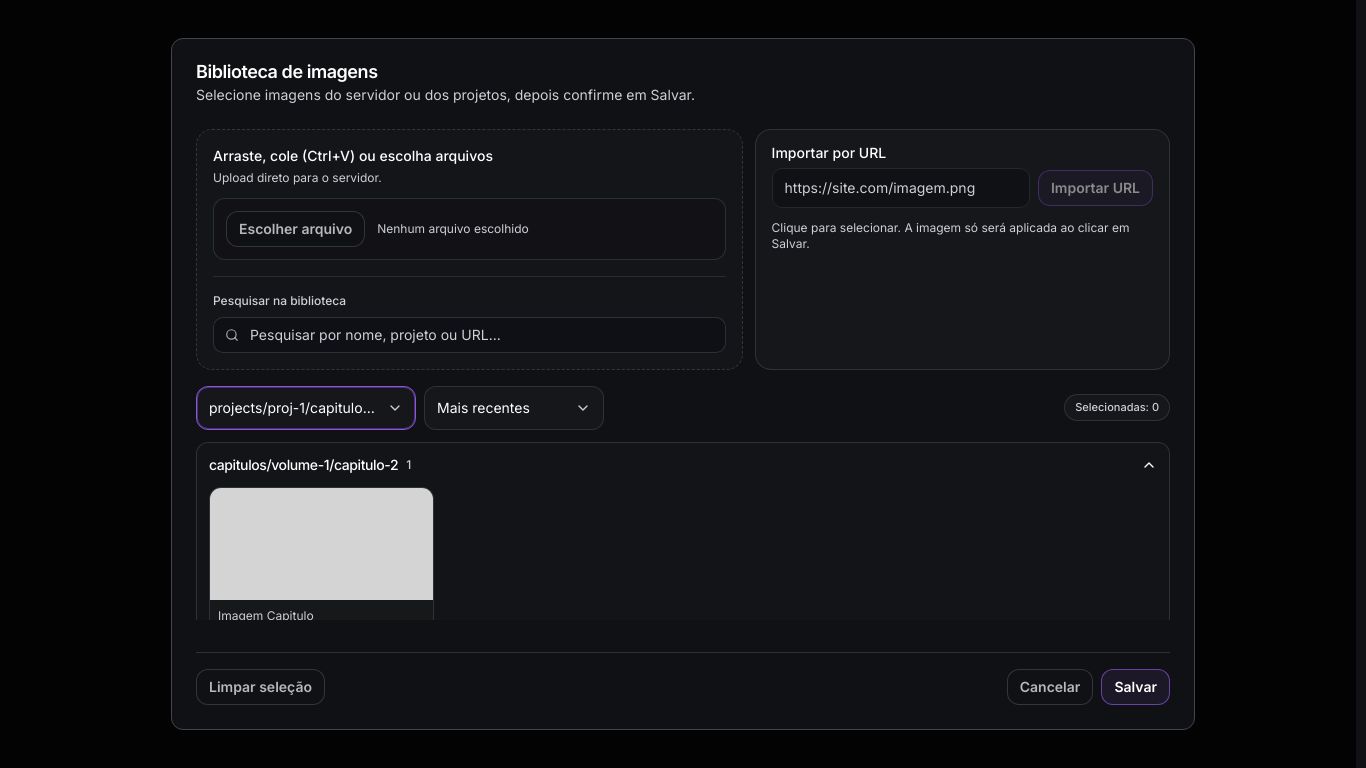
Test: ImageLibraryDialog upload folder focus › permite navegar manualmente para outras pastas do projeto
Press ArrowDown in the dropdown named "Filtrar por pasta", box [196,386,416,430]
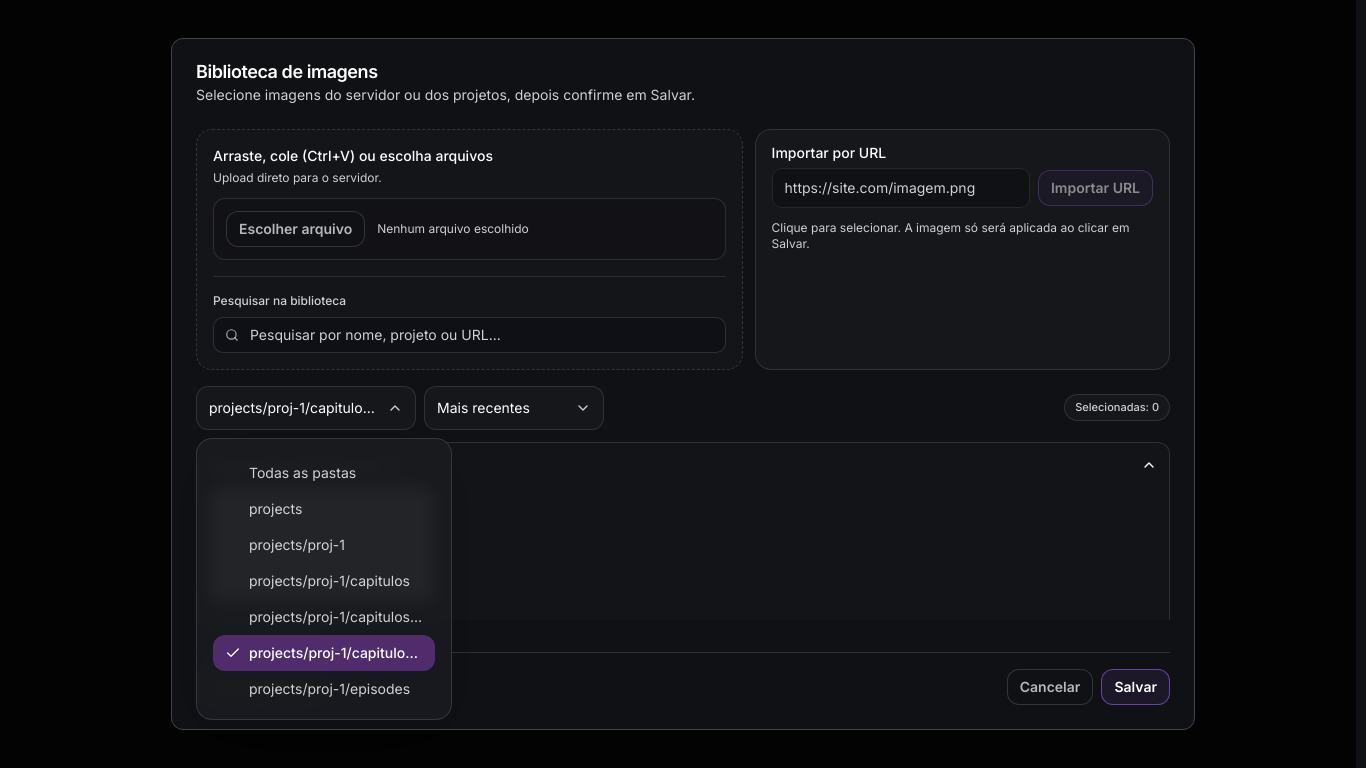
Click the option "Todas as pastas" at (324, 473), box [213,455,435,491]
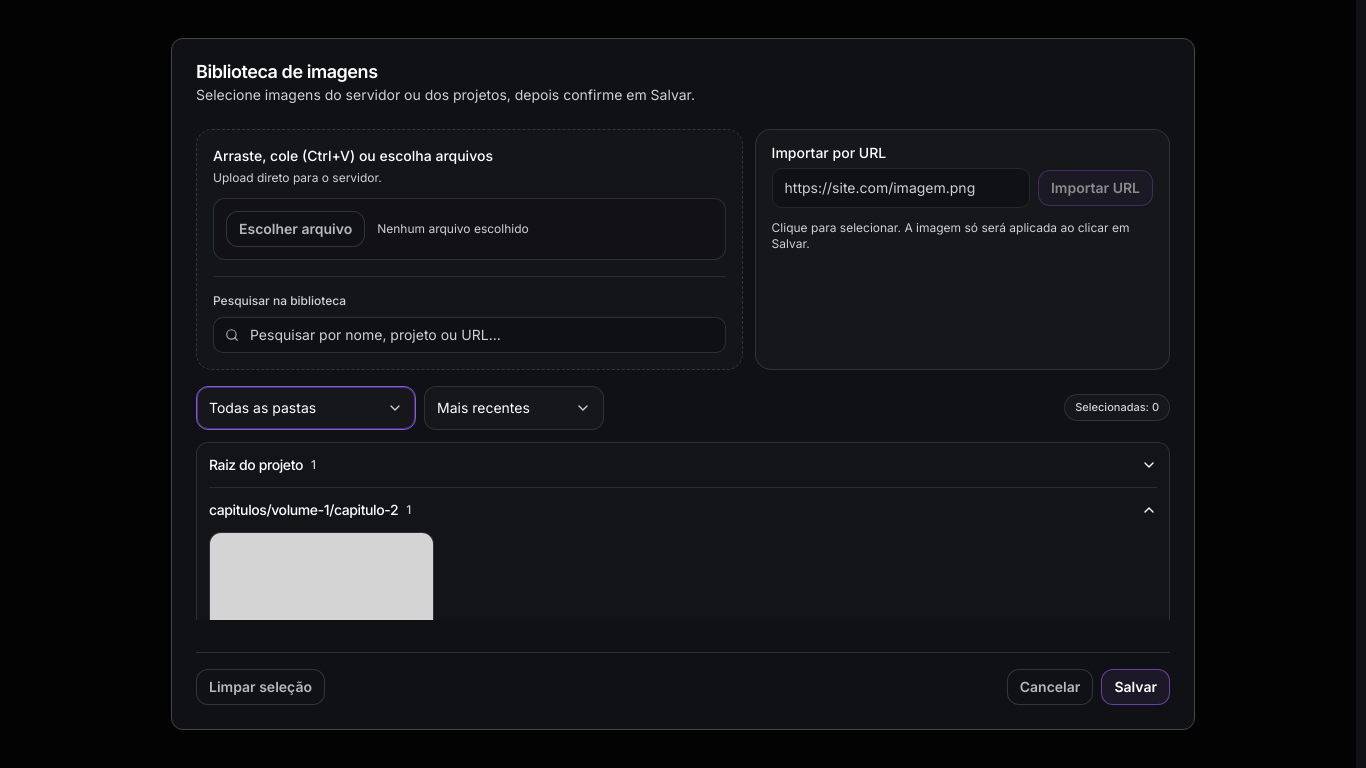
Check: the dropdown named "Filtrar por pasta" reads "Todas as pastas"
Press ArrowDown in the dropdown named "Filtrar por pasta", box [196,386,416,430]
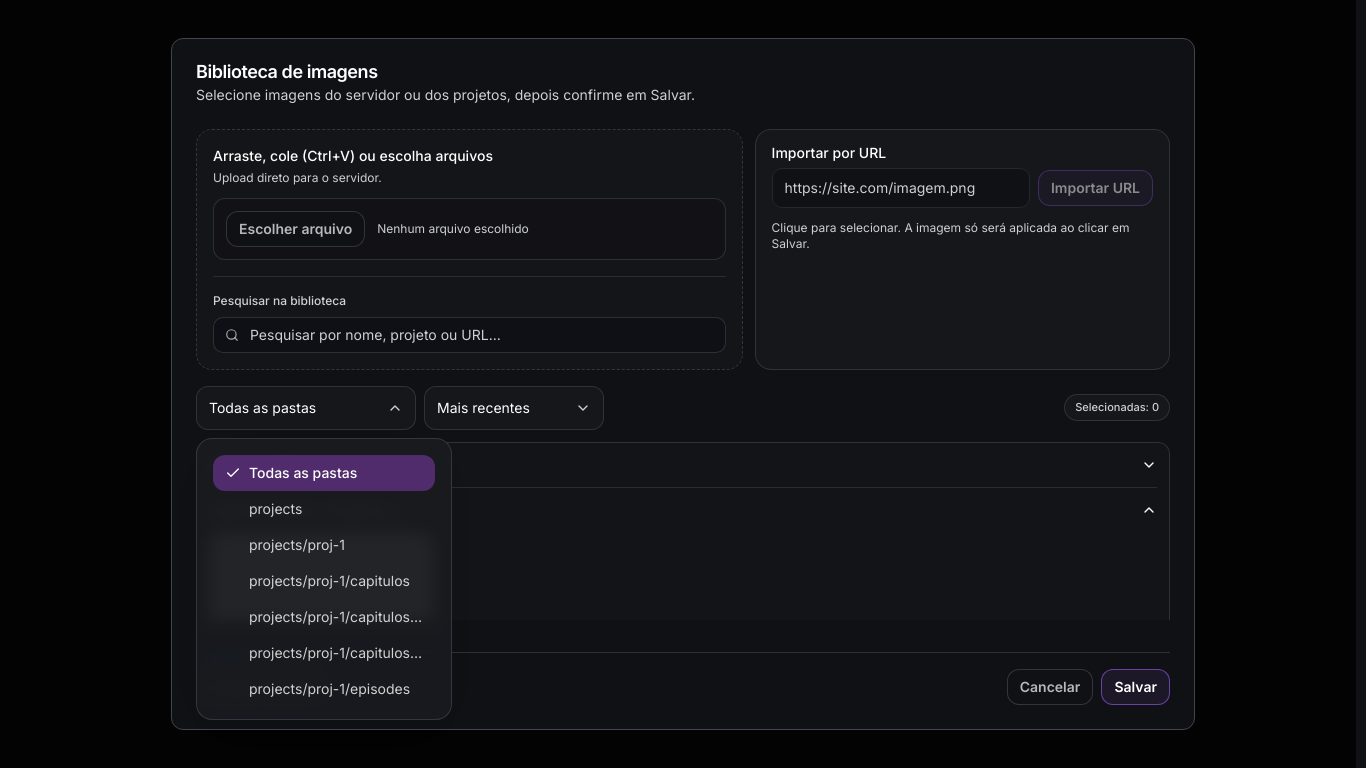
Click the option "projects/proj-1/episodes" at (324, 689), box [213,671,435,707]
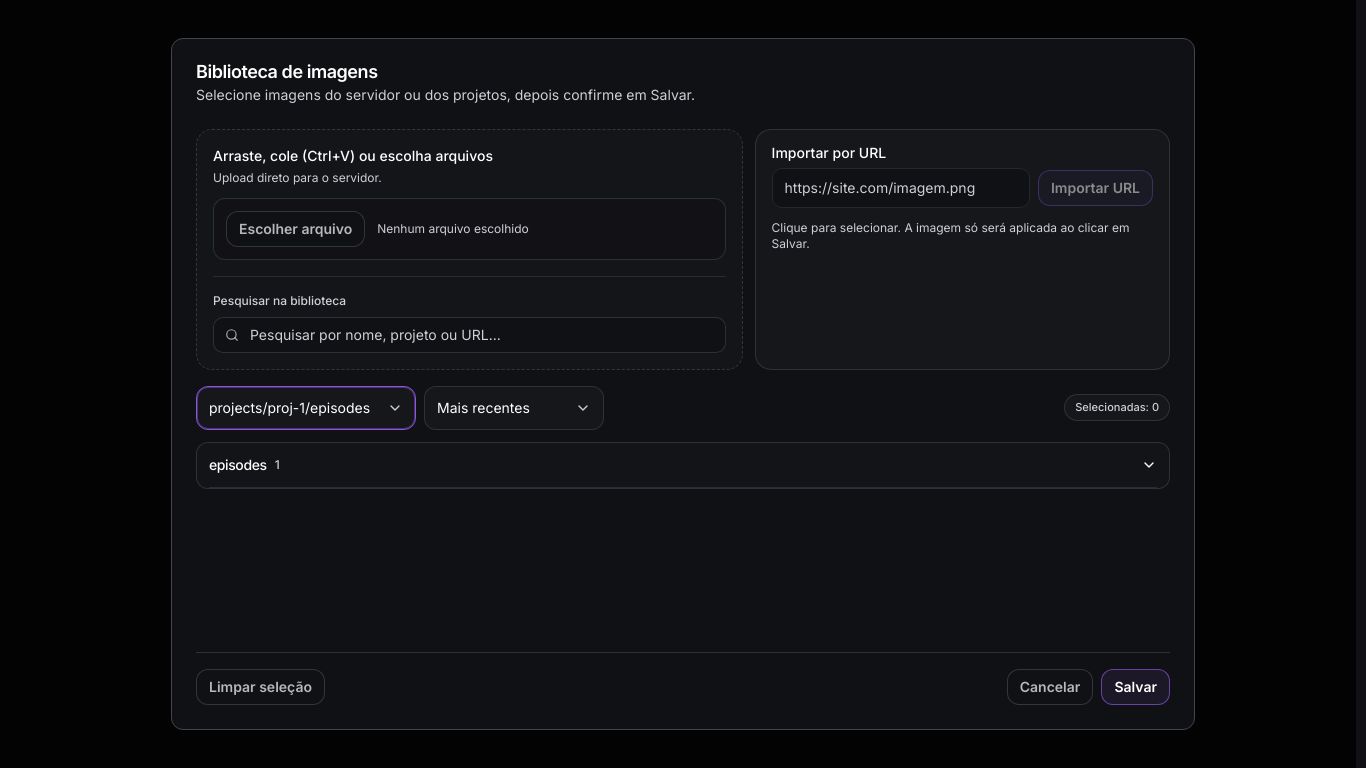
Check: the dropdown named "Filtrar por pasta" reads "projects/proj-1/episodes", box [196,386,416,430]
Click the button "episodes 1" at (238, 464), box [209,443,1157,487]
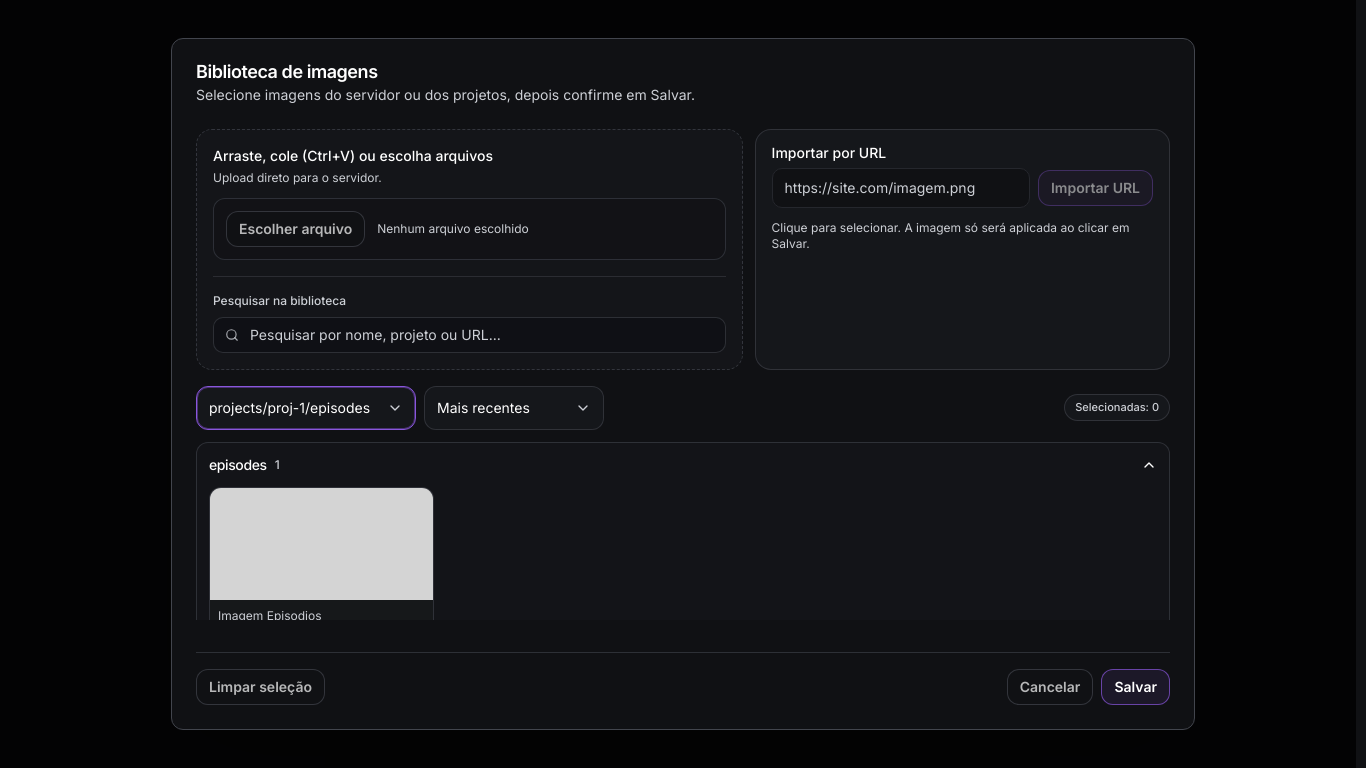
Check: the button "Imagem Capitulo" is not shown
Check: the button "episodes 1" is expanded, box [209,443,1157,487]
Check: the text "Imagem Episodios" is shown, box [218,608,322,620]
